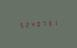five: (17, 21, 22, 29)
four: (29, 20, 34, 28)
one: (53, 18, 58, 26)
seven: (41, 19, 46, 27)
three: (47, 19, 52, 26)
two: (23, 21, 28, 28)
zero: (35, 20, 40, 27)
